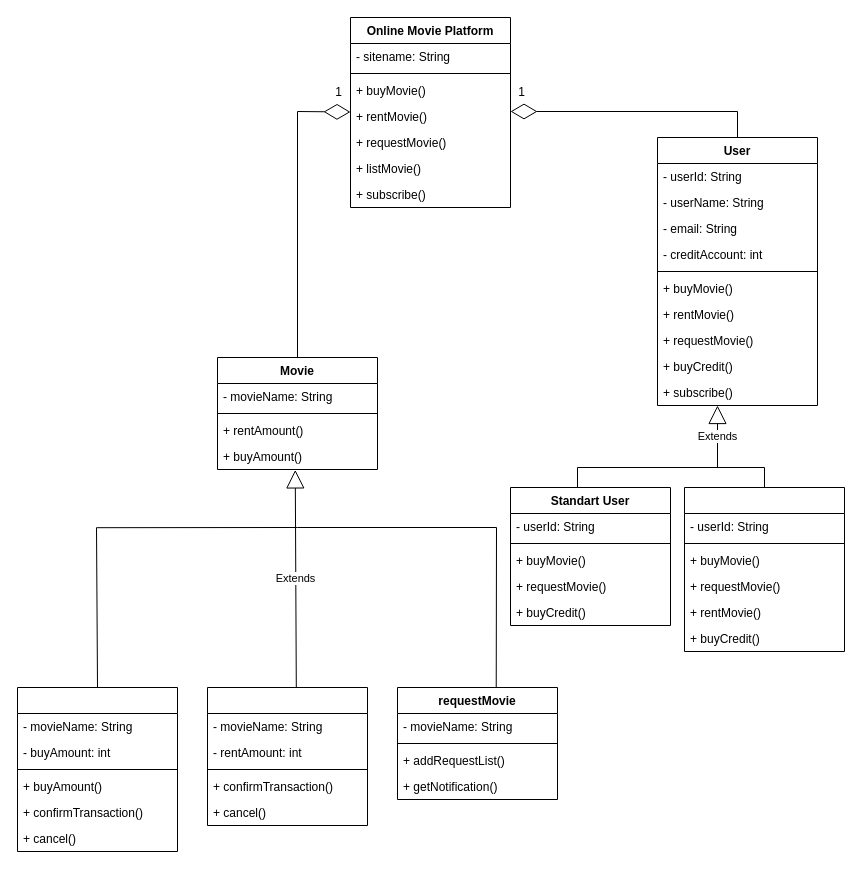
Image size: 862x872. Some labels were removed from this diagram. The shapes that lost their labels are listed below. From the top down, each one's box as (x1, y1, x2, y2) in pixels, then its label:
(684, 486, 844, 652): Subscriber
(16, 686, 178, 852): BuyMovie
(206, 686, 368, 826): rentMovie
